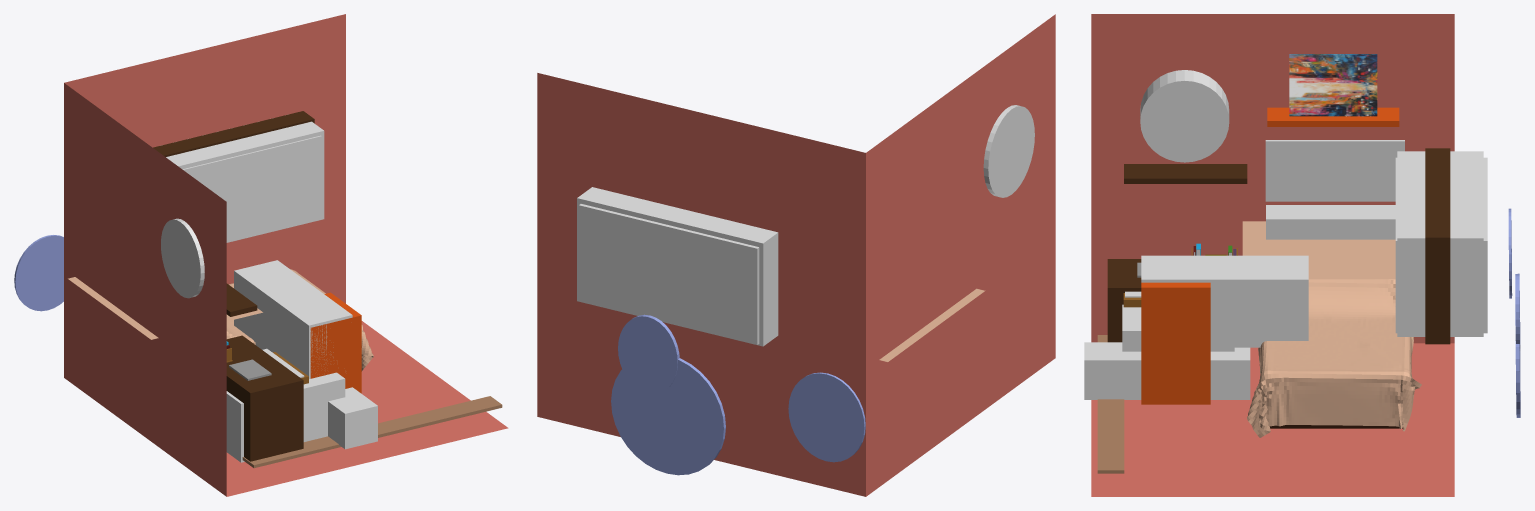
Rendered from box room.glb.
The picture shows the model from 3 angles, left to right: view 1: azimuth 30°, elevation 25°; view 2: azimuth 150°, elevation 25°; view 3: azimuth 270°, elevation 25°; orthographic projection. The views are drawn at different scales.
Visible parts, largest first — view 1: Cube, Cube.010, Cube.016, Cube.006, Cube.012, Cylinder.002, Cube.008, Cube.001, Cube.002, Cylinder, Cube.013, Cube.009 (+4 smaller); view 2: Cube, Cube.010, Cylinder.001, Cube.001, Cylinder.002, Cylinder.003, Cylinder, Plane.001; view 3: Cube, Plane, Cube.001, Cube.016, Cube.012, Cube.011, Cylinder, Cube.030, Cube.013, Plane.001, Cube.009, Cube.014 (+7 smaller).
Boxes of the visible parts, x1,y1,x2,y2 form: Cube: [64, 14, 508, 496]; Cube.010: [182, 135, 321, 241]; Cube.016: [234, 260, 352, 379]; Cube.006: [226, 335, 303, 461]; Cube.012: [310, 292, 361, 393]; Cylinder.002: [14, 235, 63, 311]; Cube.008: [226, 348, 345, 462]; Cube.001: [166, 121, 324, 242]; Cube.002: [242, 396, 502, 468]; Cylinder: [161, 218, 204, 298]; Cube.013: [328, 387, 377, 449]; Cube.009: [153, 111, 314, 156]; Cube: [537, 14, 1055, 496]; Cube.010: [579, 204, 759, 344]; Cylinder.001: [611, 358, 725, 475]; Cube.001: [577, 187, 778, 346]; Cylinder.002: [788, 372, 865, 462]; Cylinder.003: [618, 314, 679, 394]; Cylinder: [983, 105, 1034, 197]; Plane.001: [879, 288, 985, 361]; Cube: [1091, 14, 1454, 496]; Plane: [1247, 279, 1421, 437]; Cube.001: [1397, 151, 1483, 336]; Cube.016: [1141, 255, 1308, 347]; Cube.012: [1141, 282, 1210, 404]; Cube.011: [1265, 140, 1404, 201]; Cylinder: [1140, 70, 1229, 162]; Cube.030: [1289, 54, 1377, 116]; Cube.013: [1084, 342, 1250, 399]; Plane.001: [1242, 221, 1395, 279]; Cube.009: [1425, 148, 1450, 344]; Cube.014: [1266, 205, 1395, 239].
Bounding box in the file's own units: 2.17 × 2 × 2.4.
Materials: 17 (2 with a texture image).
